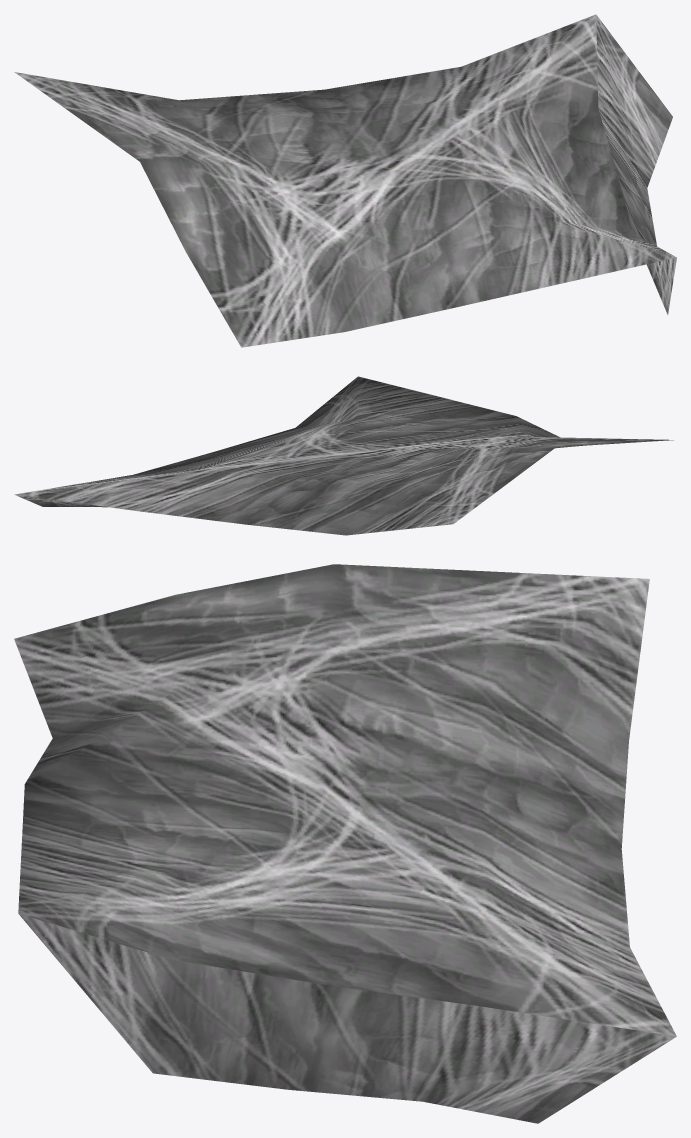
The model's file is SWORDLIGHT20_PS-AREA01_39.fbx.
3 renders of one model, top to bottom at view 1: azimuth 30°, elevation 25°; view 2: azimuth 150°, elevation 25°; view 3: azimuth 270°, elevation 25°, orthographic. The views are drawn at different scales.
Parts seen in each view (by area): view 1: SWORDLIGHT20_PS-AREA01_39; view 2: SWORDLIGHT20_PS-AREA01_39; view 3: SWORDLIGHT20_PS-AREA01_39.
Boxes of the visible parts, left/top/right/bottom form: SWORDLIGHT20_PS-AREA01_39: left=14, top=14, right=676, bottom=347; SWORDLIGHT20_PS-AREA01_39: left=14, top=376, right=673, bottom=535; SWORDLIGHT20_PS-AREA01_39: left=14, top=564, right=676, bottom=1123.
Bounding box in the file's own units: 61459 × 18742 × 45529.
1 material, 1 textured.
